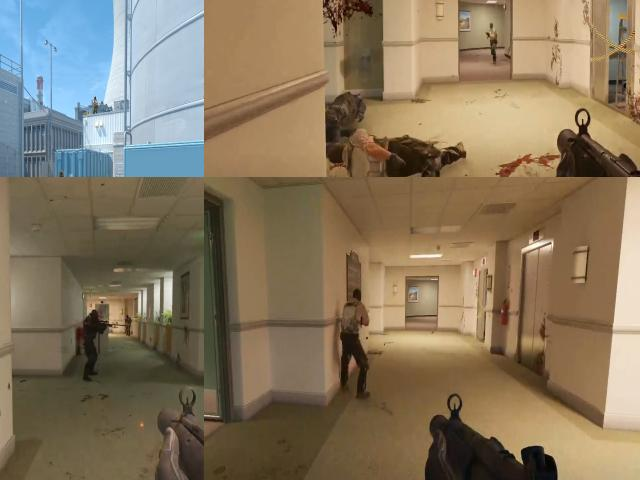CT: (81, 308, 102, 363)
CT-Head: (87, 308, 99, 324)
Dead: (335, 129, 456, 177), (316, 75, 379, 145)
T: (337, 291, 368, 349), (483, 19, 502, 49), (93, 96, 97, 112)
T-Head: (350, 286, 364, 305), (486, 21, 496, 31), (57, 170, 66, 177), (94, 96, 97, 102)
